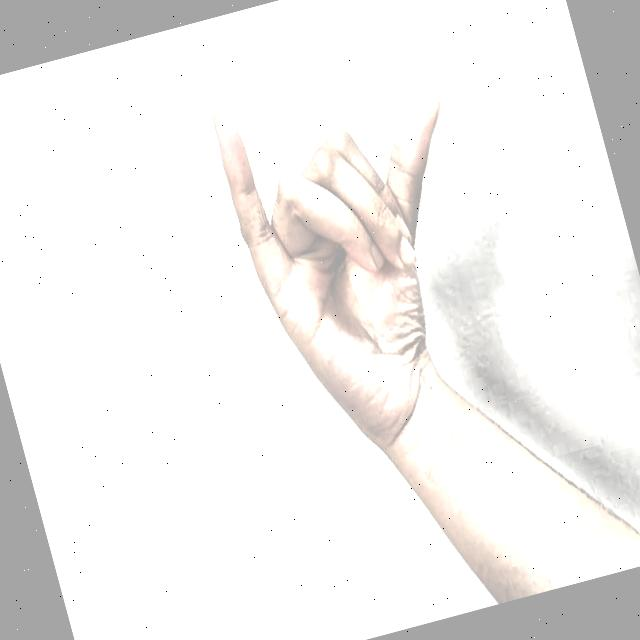Oi: (187, 33, 538, 483)
